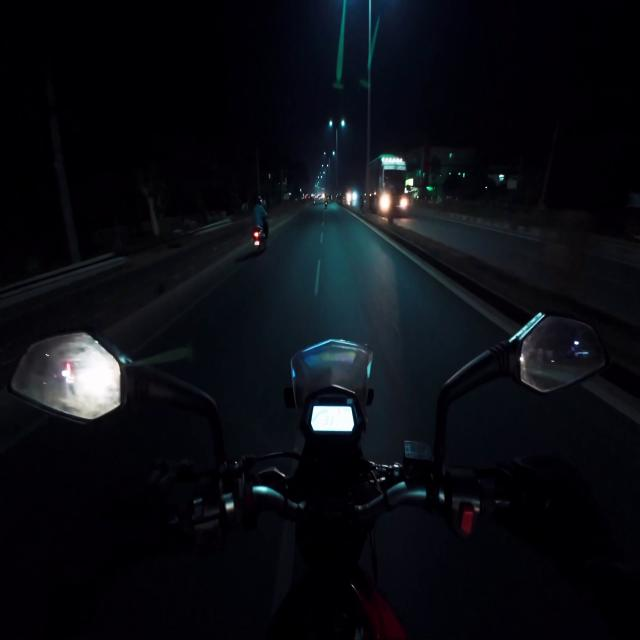motorcycle: (10, 314, 609, 638), (253, 226, 267, 254)
